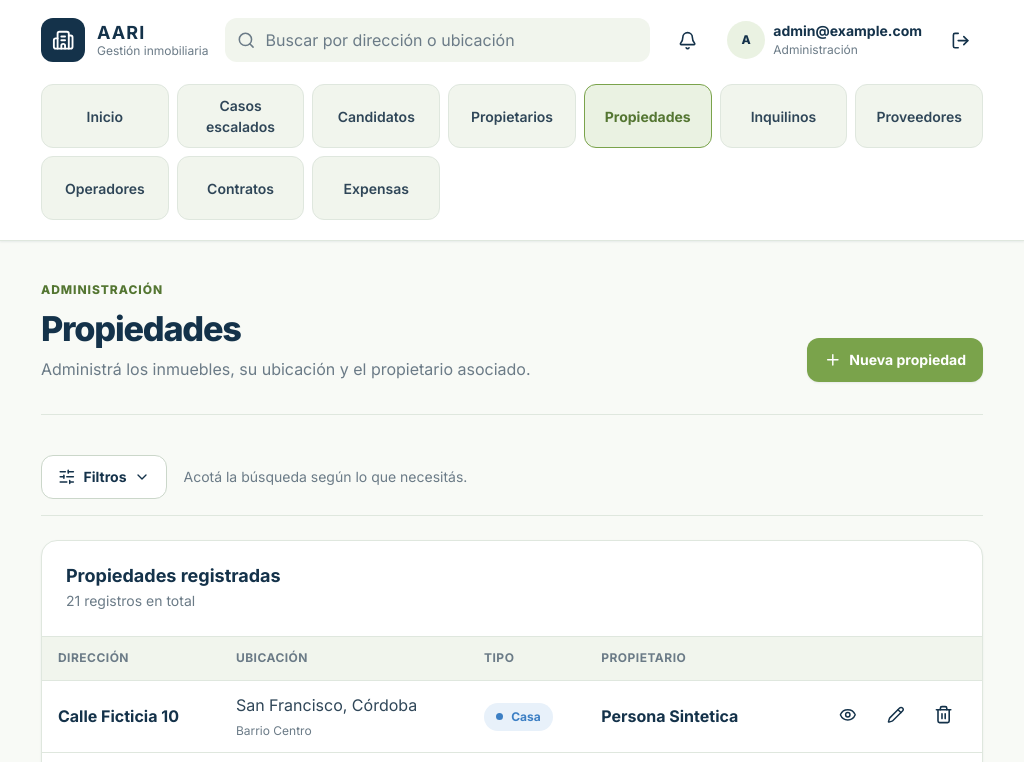
filtros de propiedades › limpia también un borrador que todavía no se aplicó
Expected: the link "Calle Ficticia 10" is shown, x1=58 y1=706 x2=179 y2=726
Click the button "Filtros" at (104, 477), box x1=41 y1=455 x2=168 y2=499
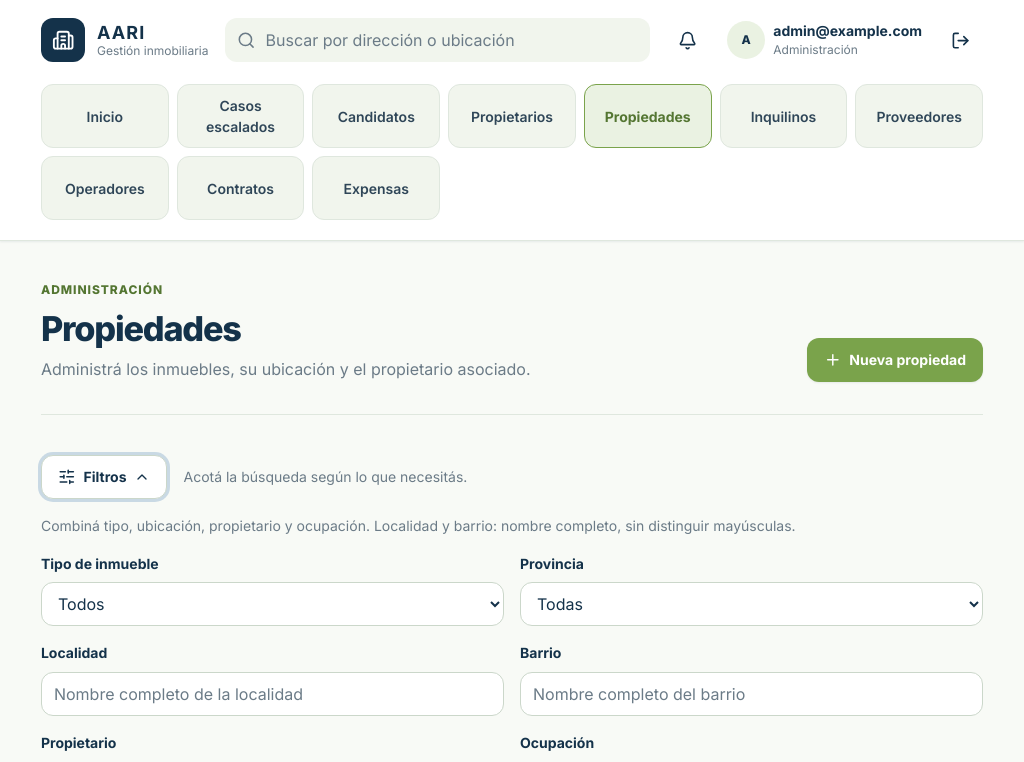
Select "Departamento" in the dropdown labelled "Tipo de inmueble" at (272, 604), box x1=41 y1=582 x2=504 y2=626
(page scrolled)
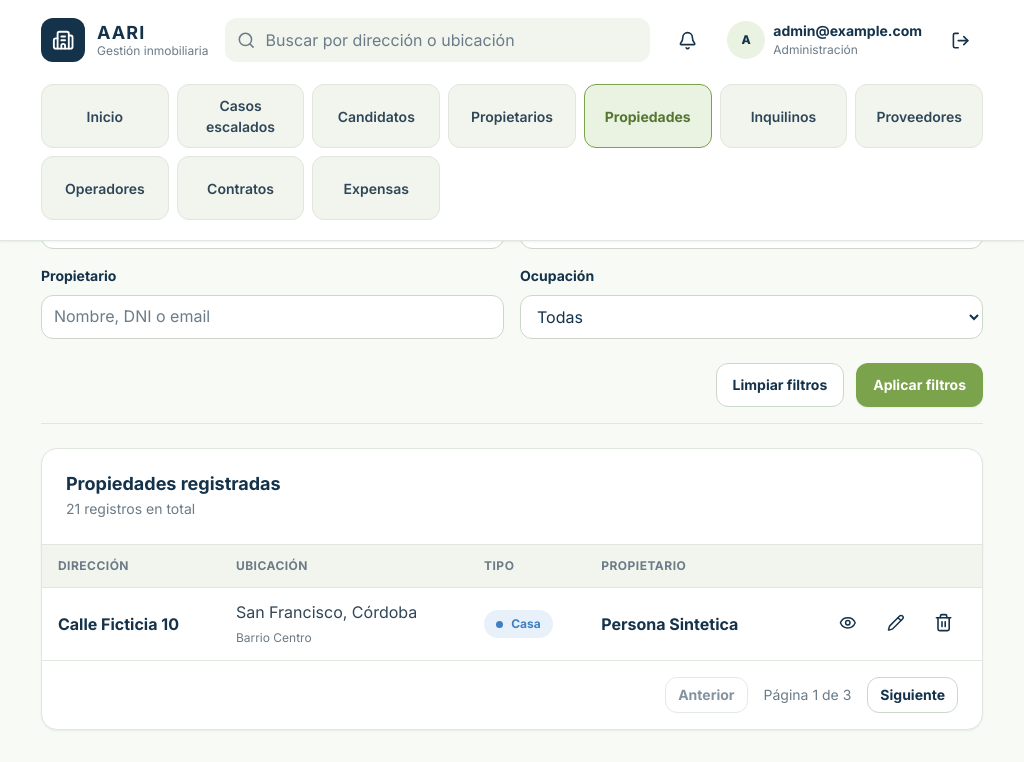
Click the button "Limpiar filtros" at (780, 385), box x1=716 y1=363 x2=844 y2=407
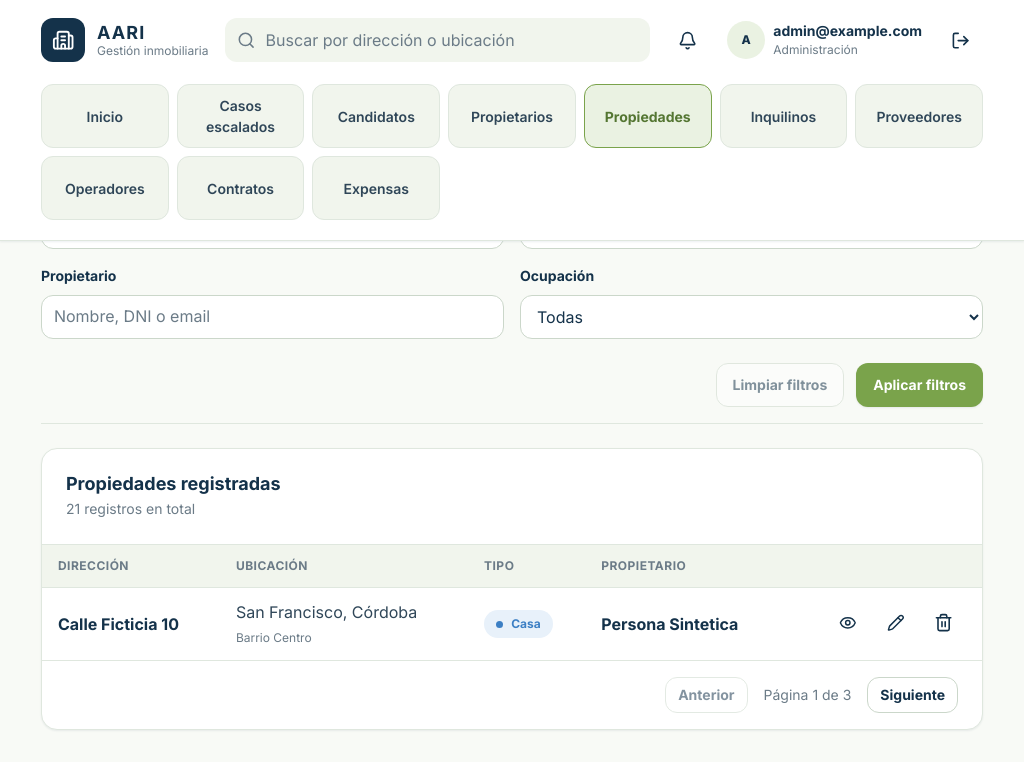
Now the button "Limpiar filtros" is disabled, box x1=716 y1=363 x2=844 y2=407
